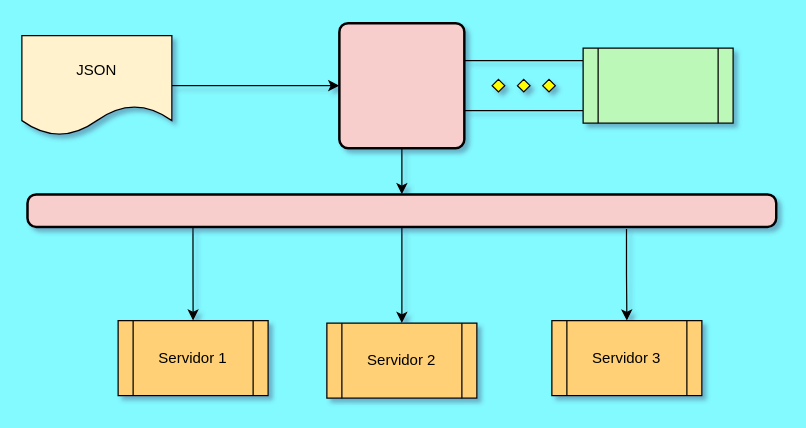
This 806x428 diagram has some shape labels left out. Each missing label, with the centre of its shape:
Escalonador Quick Fit: point (401, 85)
Thread Calc: point (657, 85)
